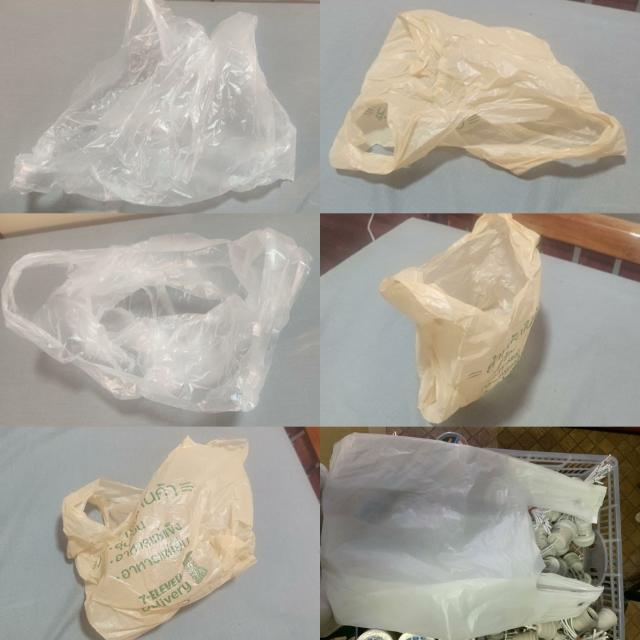Single-layer Plastic: (11, 0, 296, 206), (320, 434, 605, 640), (1, 229, 311, 412), (329, 10, 627, 175), (63, 438, 256, 640), (379, 214, 542, 424)
